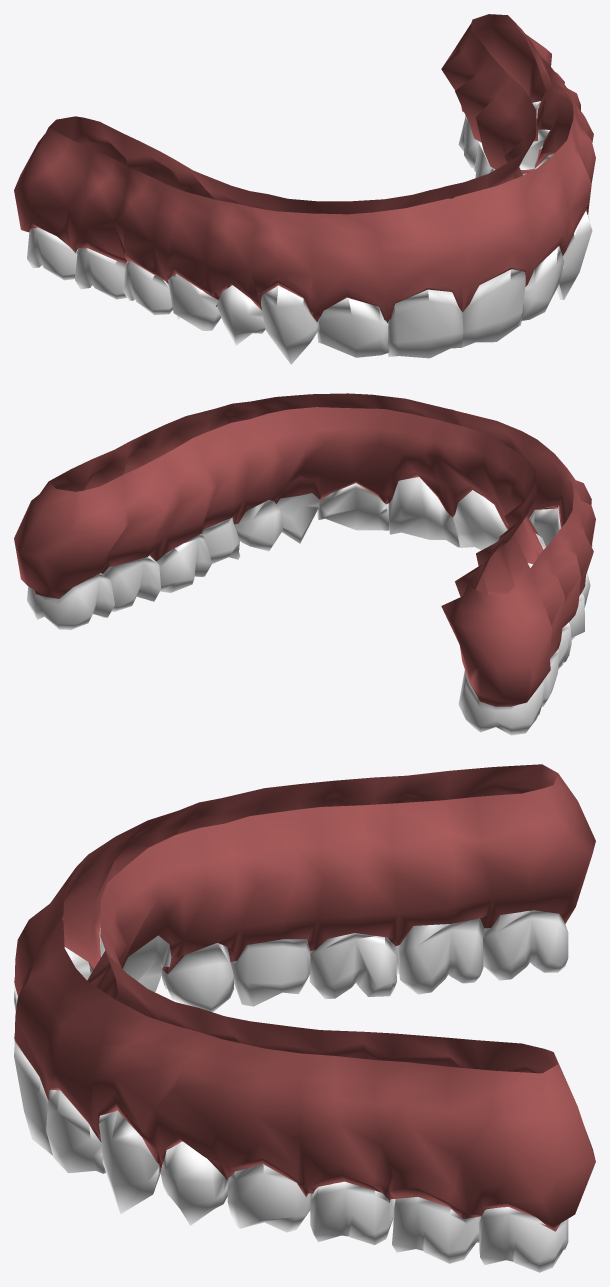
File: upper.dae
The picture shows the model from 3 angles, top to bottom: view 1: azimuth 30°, elevation 25°; view 2: azimuth 150°, elevation 25°; view 3: azimuth 270°, elevation 25°; orthographic projection. The views are drawn at different scales.
Parts seen in each view (by area): view 1: jaw_upper_3 (×14); view 2: jaw_upper_3 (×12); view 3: jaw_upper_3 (×15).
Part boxes in pixels (<box>): jaw_upper_3 (×14): <box>14,14,595,364</box>; jaw_upper_3 (×12): <box>14,393,595,735</box>; jaw_upper_3 (×15): <box>14,764,595,1272</box>.
Size of the model in its own units: 2.95 by 2.07 by 0.8141.
